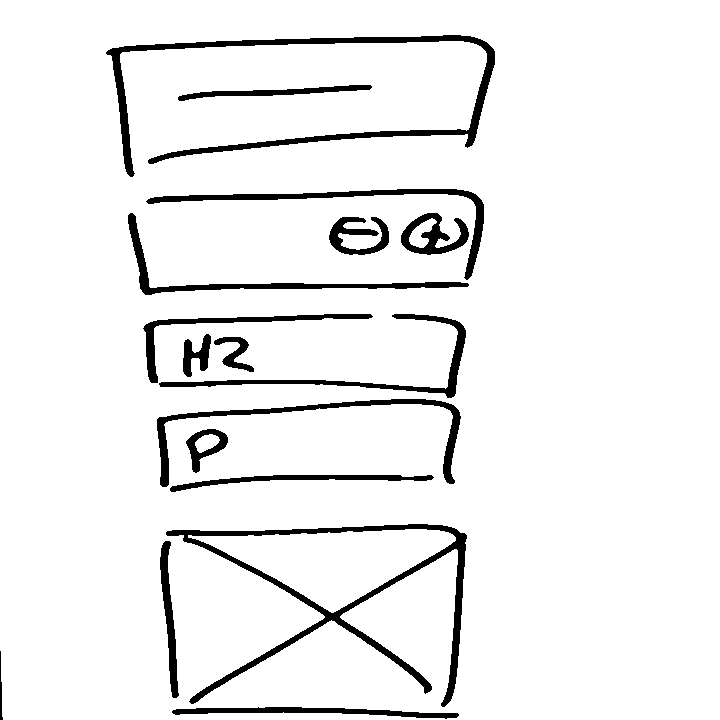button: (103, 29, 501, 173)
heading2: (139, 304, 472, 400)
inline stepper bar: (118, 183, 487, 297)
paragraph: (148, 399, 469, 501)
picture: (158, 522, 475, 720)
